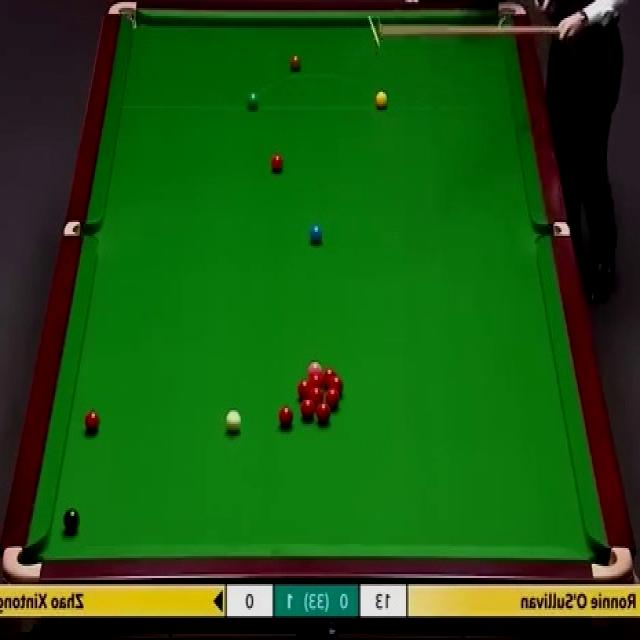black-ball: (64, 506, 80, 532)
blue-ball: (309, 222, 324, 245)
brown-ball: (288, 54, 301, 74)
green-ball: (245, 91, 261, 112)
pink-ball: (308, 361, 322, 372)
red-ball: (301, 396, 317, 421), (148, 497, 164, 520), (279, 407, 293, 429), (85, 411, 99, 432), (270, 154, 284, 174), (322, 366, 336, 386), (317, 397, 330, 418), (331, 376, 344, 396), (325, 390, 339, 408), (298, 379, 311, 398), (309, 386, 323, 401), (310, 371, 322, 387)
white-ball: (203, 437, 221, 462)
yellow-ball: (375, 90, 388, 110)
